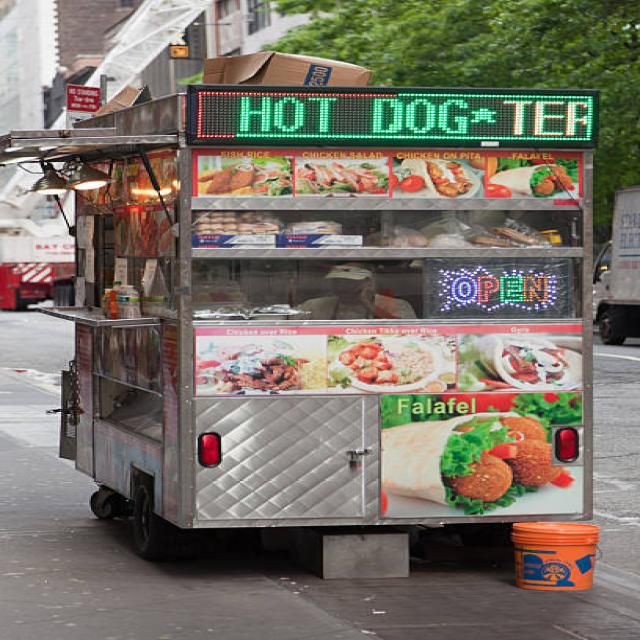Emperan: (0, 41, 617, 603)
